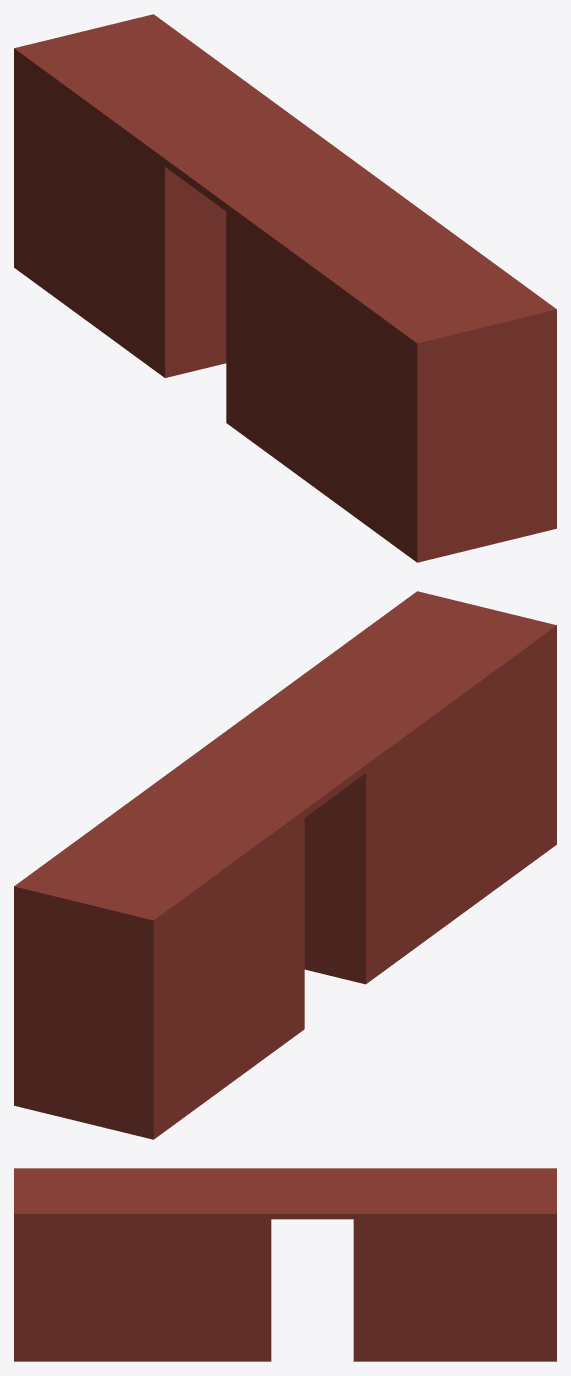
The picture shows the model from 3 angles, top to bottom: view 1: azimuth 30°, elevation 25°; view 2: azimuth 150°, elevation 25°; view 3: azimuth 270°, elevation 25°; orthographic projection. The views are drawn at different scales.
Parts seen in each view (by area): view 1: 固定地基二楼, 固定地基二楼.001, 平面.003; view 2: 固定地基二楼.001, 固定地基二楼, 平面.003; view 3: 固定地基二楼, 固定地基二楼.001, 平面.003.
Boxes of the visible parts, x1,y1,x2,y2 form: 固定地基二楼: [226, 169, 556, 562]; 固定地基二楼.001: [14, 14, 304, 377]; 平面.003: [165, 125, 365, 212]; 固定地基二楼.001: [14, 776, 304, 1139]; 固定地基二楼: [231, 591, 556, 984]; 平面.003: [165, 728, 370, 820]; 固定地基二楼: [14, 1168, 271, 1361]; 固定地基二楼.001: [353, 1168, 556, 1361]; 平面.003: [265, 1168, 359, 1219].
Bounding box in the file's own units: 400 × 600 × 2000.
